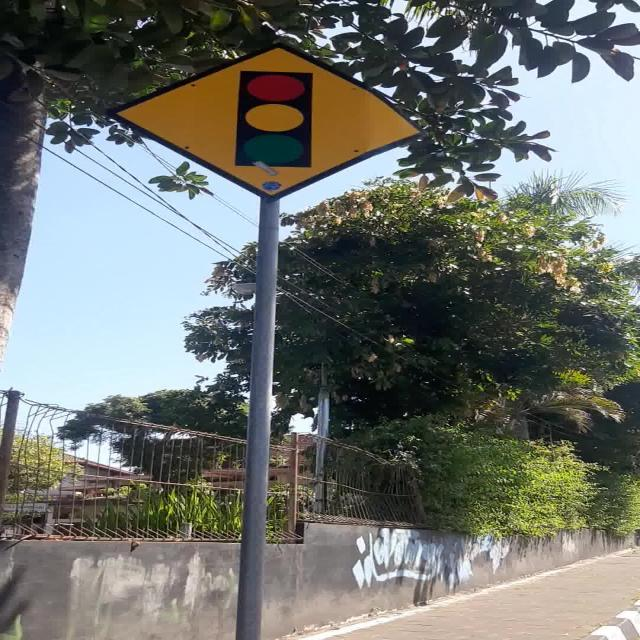Lampu Lalu Lintas: (106, 41, 428, 200)
